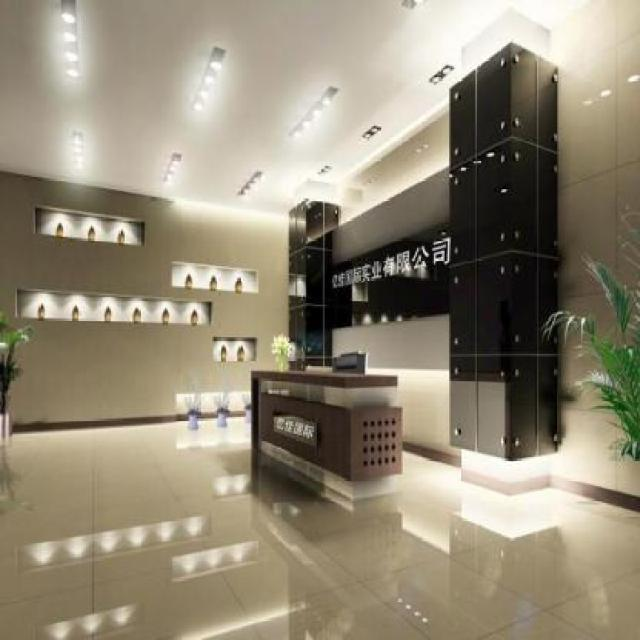frontdesk: (248, 359, 409, 516)
